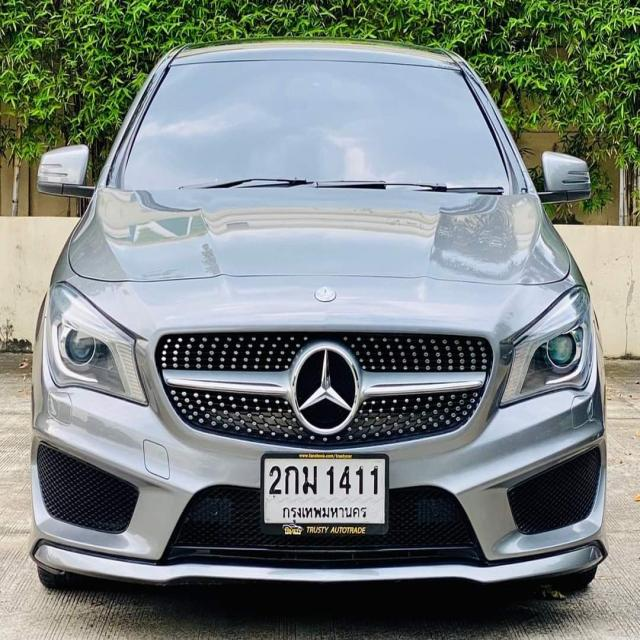license_plate: (260, 449, 390, 542)
